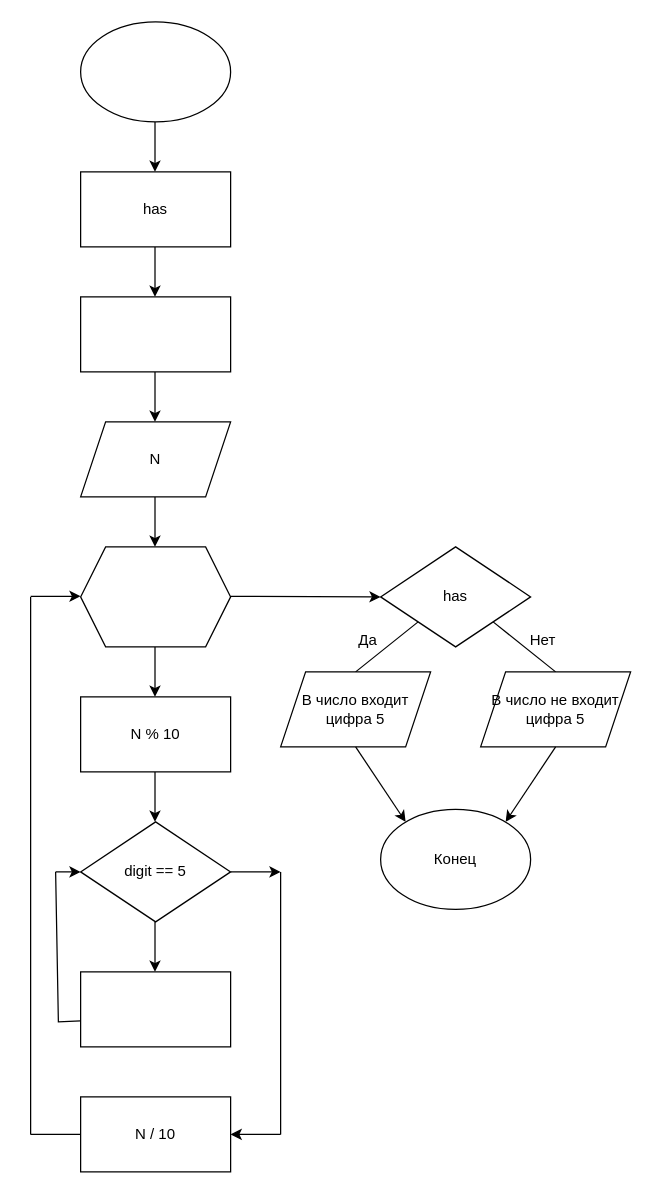
Some shapes in this 653 by 1194 pixel diagram are drawn without their labels. The shapes that lost their labels are listed below. From the top down, each one's box as (x1, y1, x2, y2) in pixels, then its label:
(79, 21, 231, 122): Начало
(79, 296, 231, 372): N, digit
(79, 546, 231, 647): N > 0
(79, 971, 231, 1047): has = 1
